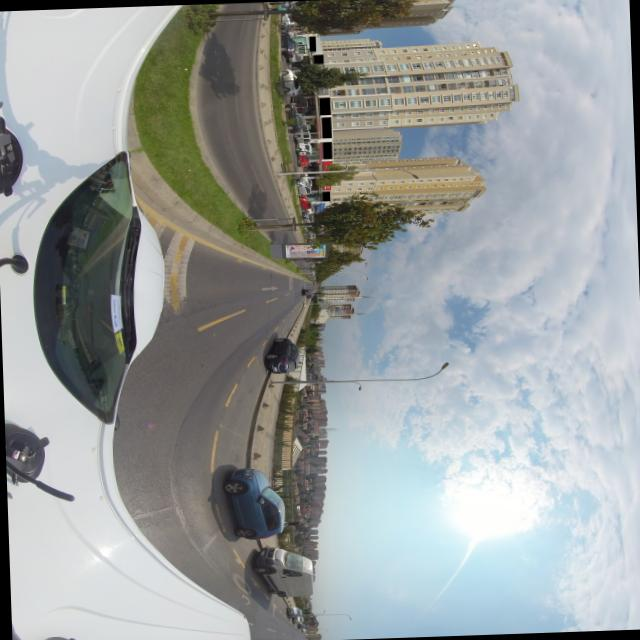SignStore: (320, 117, 330, 138), (318, 98, 329, 115), (321, 142, 331, 158), (308, 36, 315, 51), (312, 54, 322, 64), (321, 191, 329, 201)
